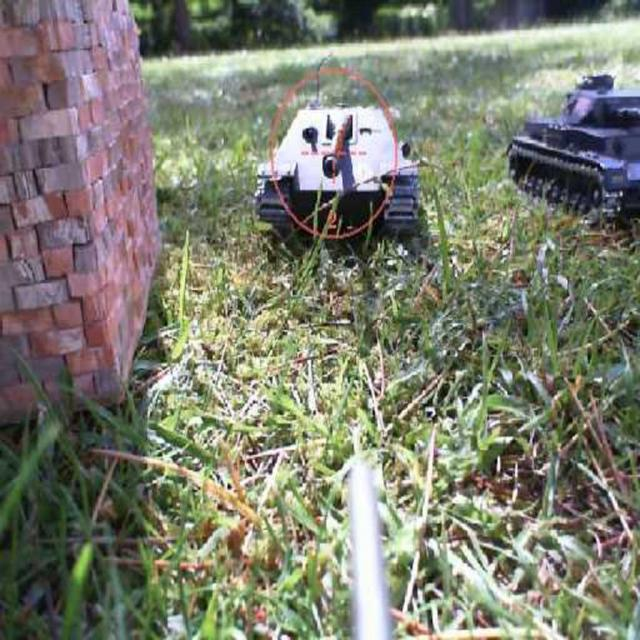tank: (252, 61, 420, 252), (505, 70, 639, 230)
